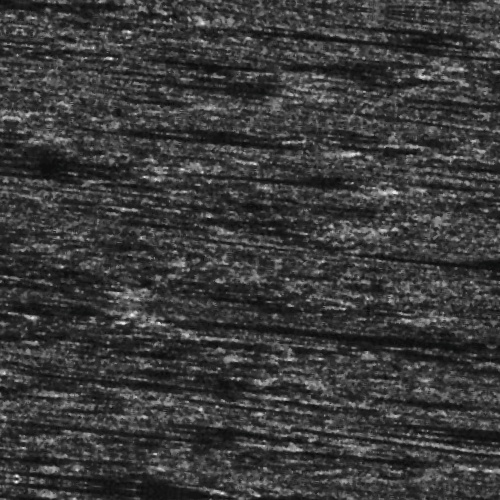object: (315, 162, 430, 187), (195, 486, 278, 495), (439, 442, 500, 451), (281, 63, 312, 72), (484, 235, 500, 250), (21, 329, 52, 336), (433, 27, 474, 32), (260, 390, 301, 393), (0, 394, 24, 399), (102, 302, 133, 305), (0, 145, 8, 152), (493, 378, 500, 385)
shadow: (187, 162, 372, 187), (34, 486, 236, 495), (380, 235, 500, 250), (290, 442, 475, 451), (265, 320, 500, 327), (226, 27, 453, 32), (199, 63, 296, 72), (392, 403, 500, 410), (69, 440, 269, 443), (84, 390, 281, 393), (424, 378, 500, 385), (17, 302, 118, 305), (444, 143, 500, 148), (0, 329, 37, 336), (0, 406, 63, 409)
